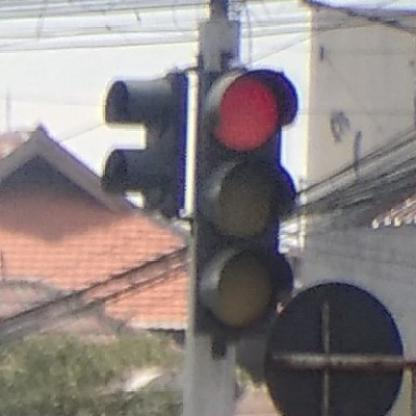red: (196, 66, 296, 334)
